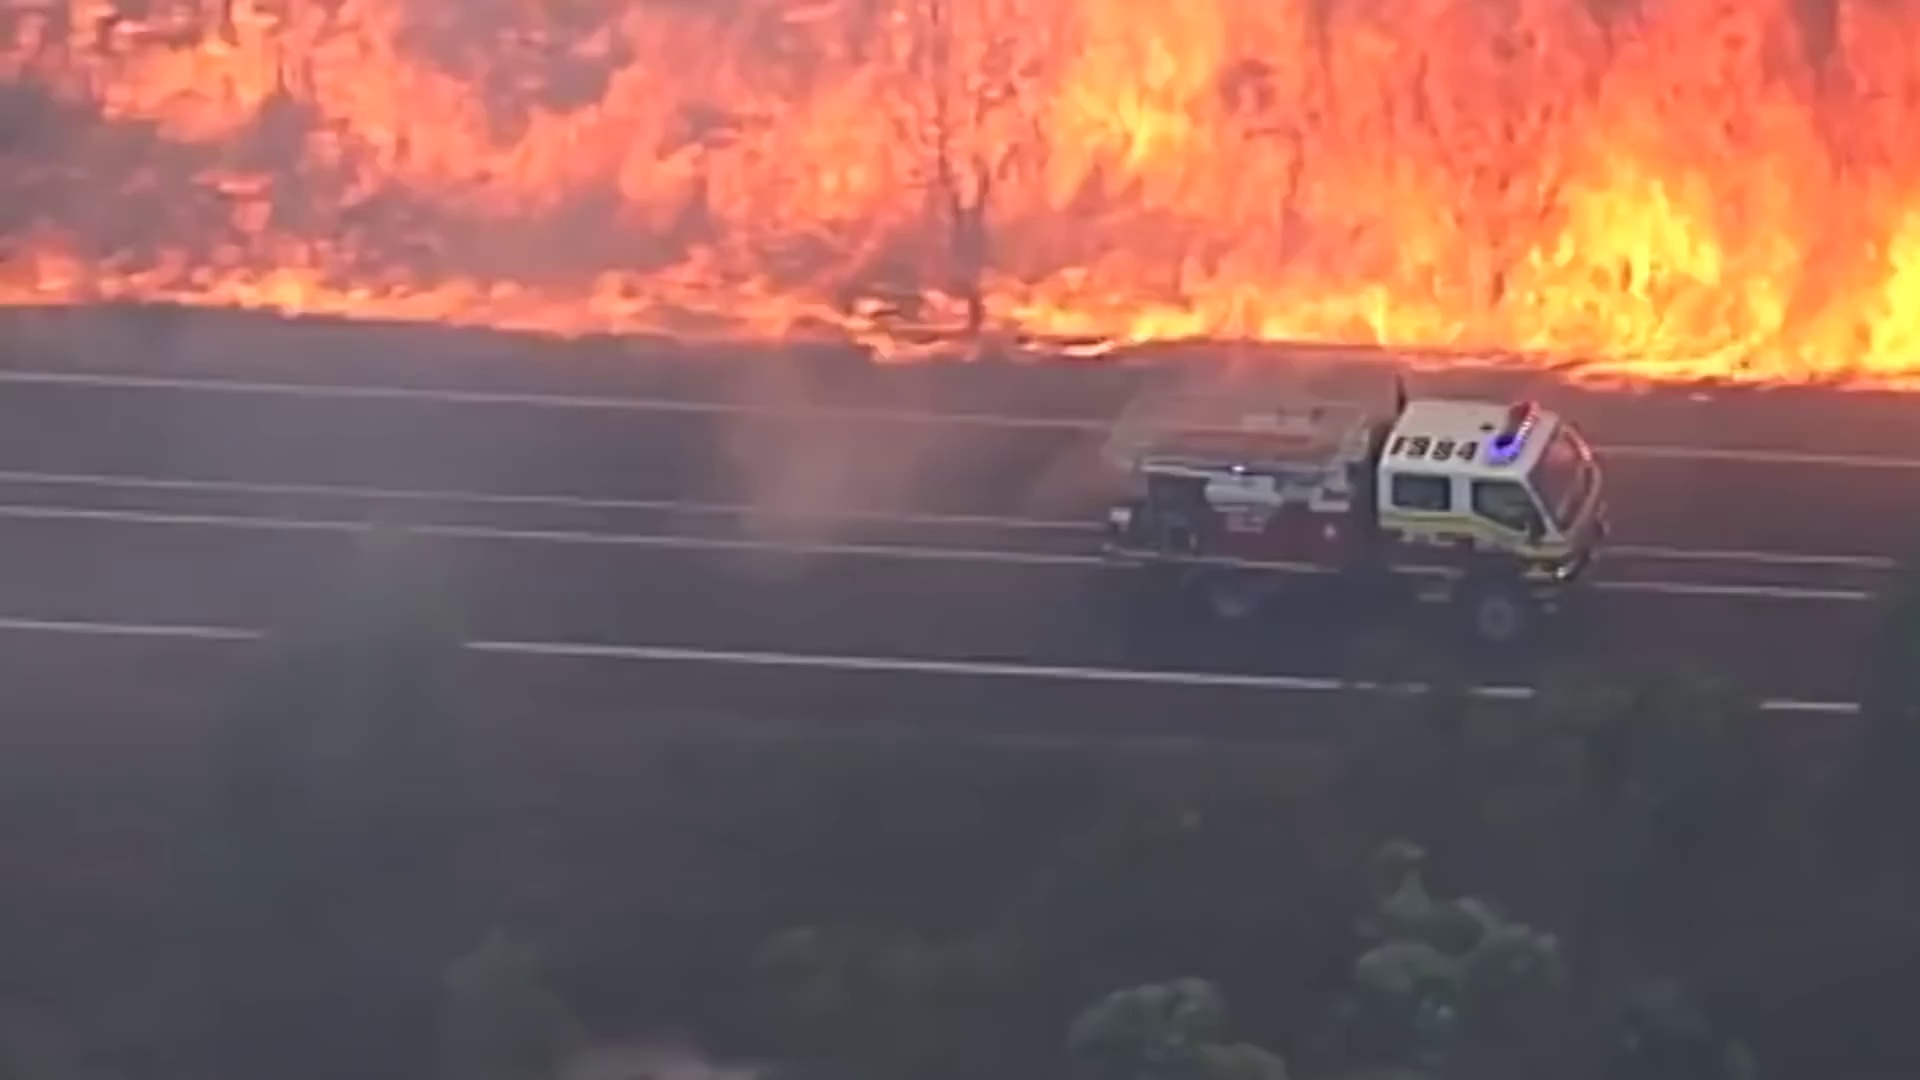fire: (1518, 169, 1919, 382), (5, 249, 893, 334), (982, 281, 1472, 349), (1073, 50, 1199, 160)
